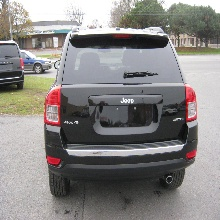no damage: (43, 26, 201, 195), (1, 39, 25, 88), (22, 47, 52, 74)
